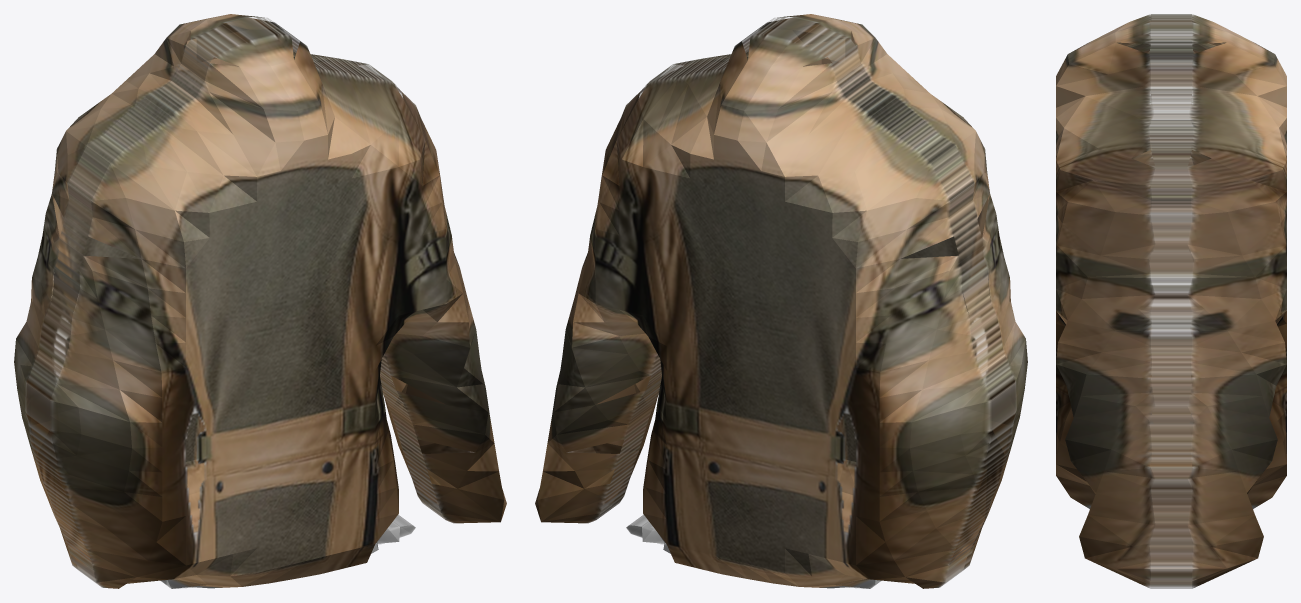
Rendered from rev-it-vector-adventure-jacket-026.glb.
3 views of the same model, side by side, from view 1: azimuth 30°, elevation 25°; view 2: azimuth 150°, elevation 25°; view 3: azimuth 270°, elevation 25° (orthographic). The views are drawn at different scales.
Visible parts, largest first — view 1: world; view 2: world; view 3: world.
Boxes of the visible parts, x1=… form: world: x1=14, y1=14, x2=506, y2=588; world: x1=535, y1=14, x2=1027, y2=588; world: x1=1056, y1=14, x2=1286, y2=588.
Size of the model in its own units: 0.8659 by 1 by 0.44.
1 material, 1 textured.
